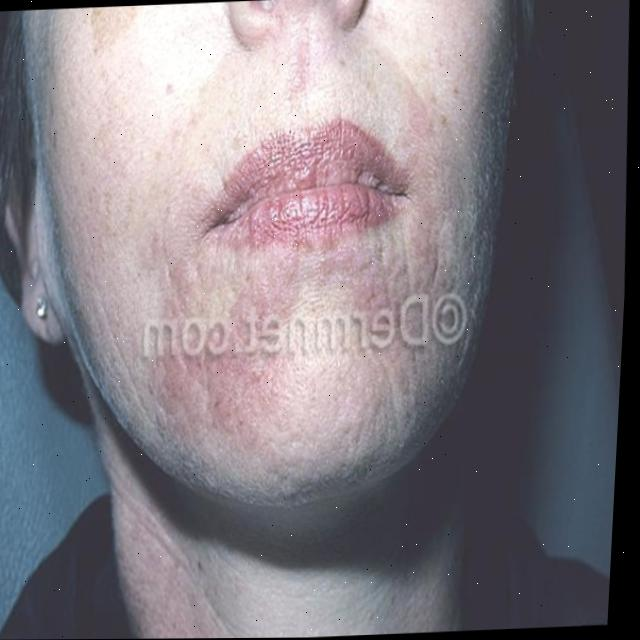Rosacea: (76, 229, 435, 478)
